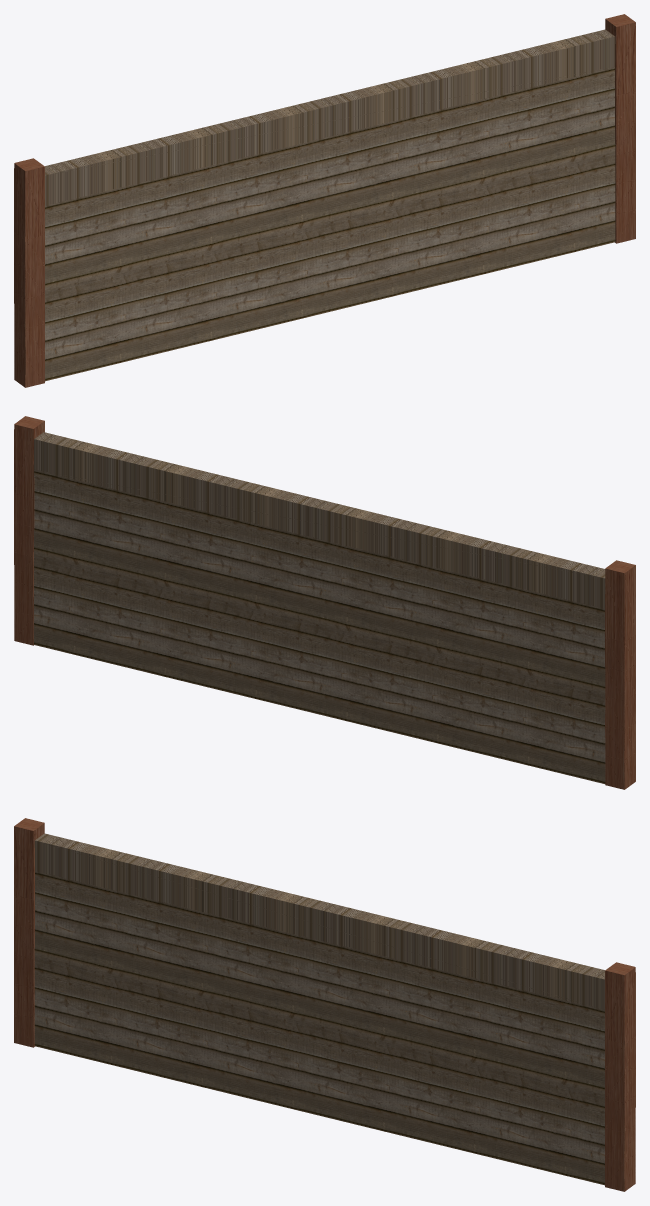
Rendered from R1_Belakang.fbx.
3 renders of one model, top to bottom at view 1: azimuth 30°, elevation 25°; view 2: azimuth 150°, elevation 25°; view 3: azimuth 330°, elevation 25°, orthographic.
Visible parts, largest first — view 1: Cube.023; view 2: Cube.023; view 3: Cube.023.
Boxes of the visible parts, <box> form: Cube.023: <box>14,14,635,387</box>; Cube.023: <box>14,416,635,789</box>; Cube.023: <box>14,818,635,1191</box>.
Size of the model in its own units: 25.53 by 8.65 by 0.8348.
2 materials, 2 textured.
